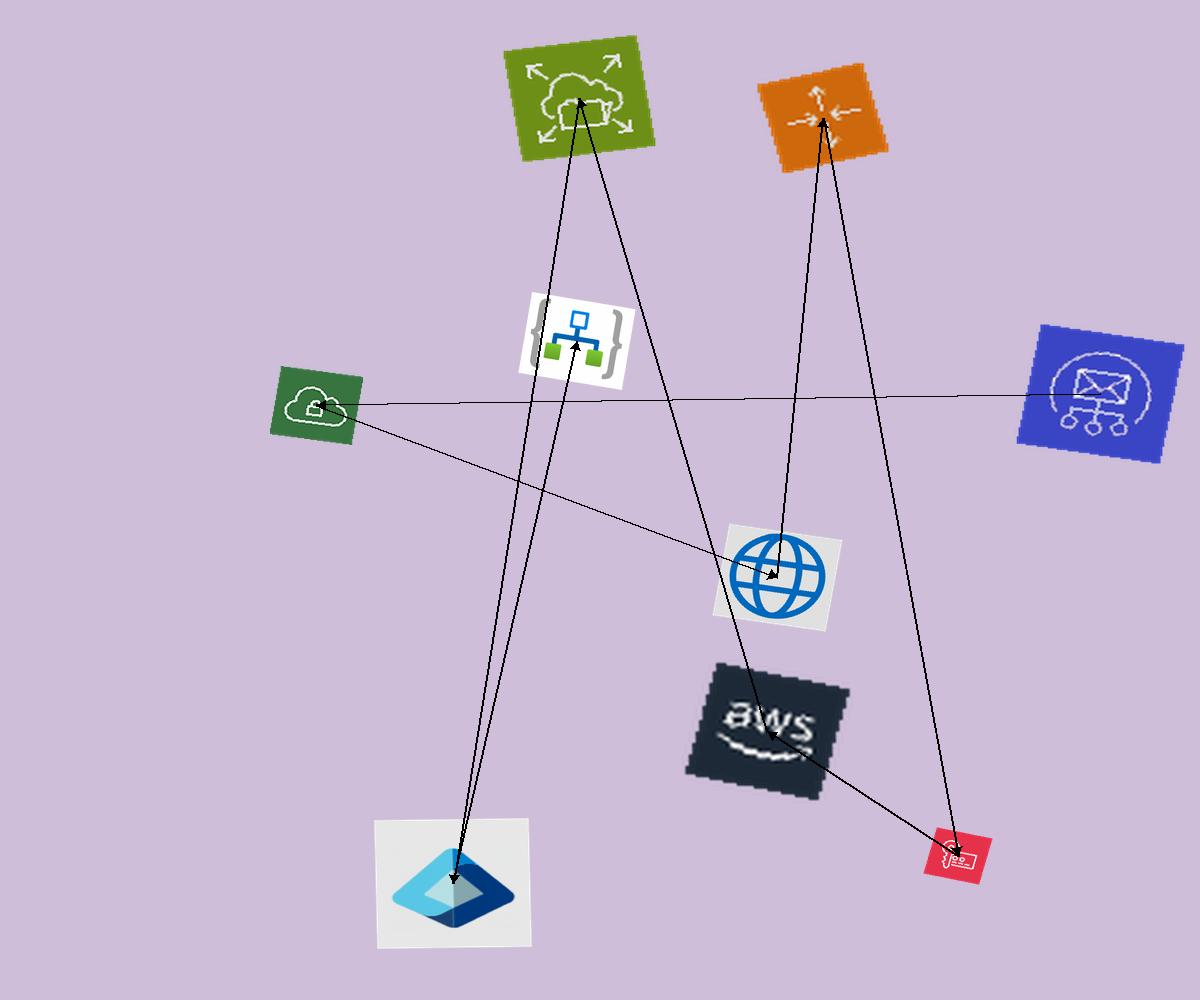AWS-Cloud-logo: (682, 660, 853, 803)
AWS-EFS: (502, 34, 657, 163)
AWS-Key-Management-Service: (923, 827, 993, 885)
AWS-Private_vpc: (269, 366, 364, 445)
AWS-Scaling-group: (755, 61, 891, 175)
AWS-Simple-Email-Service: (1015, 323, 1186, 465)
Azure_http: (712, 523, 843, 632)
Azure_integration-204-Logic-Apps: (518, 292, 636, 390)
Azure_microsoft_entra: (374, 818, 532, 949)
